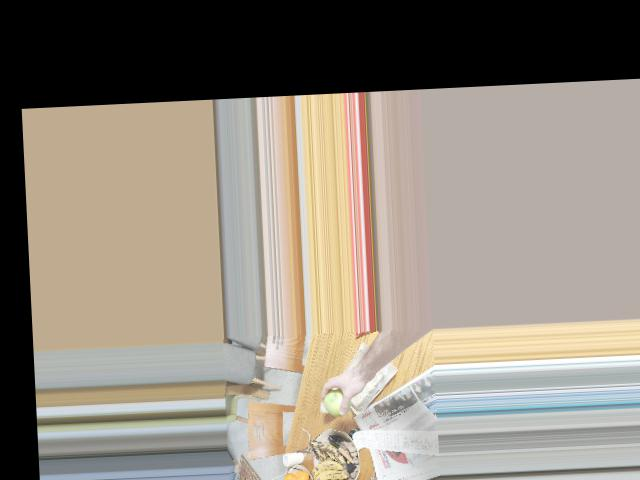apple: (324, 382, 359, 414)
